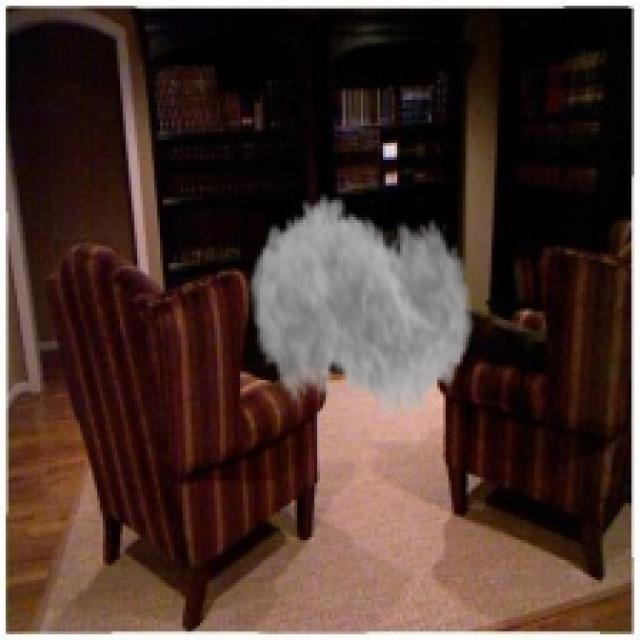Smoke: (248, 174, 474, 446)
